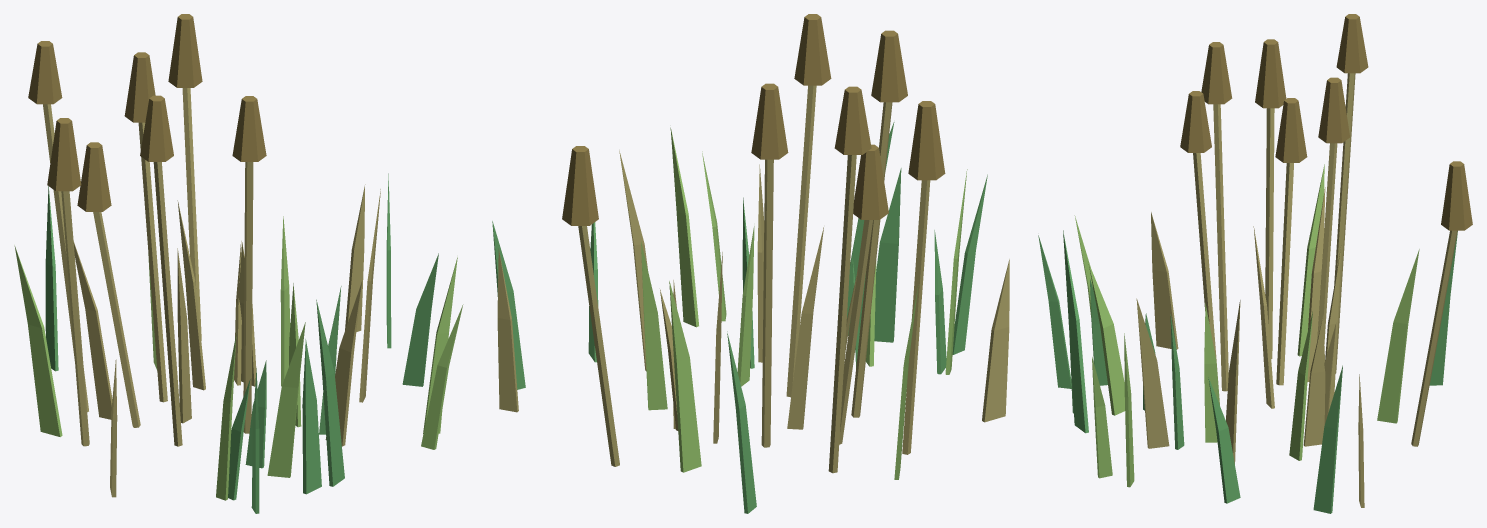
File: grass_seedhead_b.glb
3 renders of one model, left to right at view 1: azimuth 30°, elevation 25°; view 2: azimuth 150°, elevation 25°; view 3: azimuth 270°, elevation 25°, orthographic. The views are drawn at different scales.
Parts seen in each view (by area): view 1: SeedGrass_1.001, SeedGrass_2.001, SeedGrass_3.001, Seed_Stem_7, Seed_Stem_2.001, Seed_Stem_1.001, Seed_Stem_5.001, Seed_Stem_6.001, Seed_Head_4.001, Seed_Head_2.001, Seed_Stem_4.001, Seed_Head_6.001 (+5 smaller); view 2: SeedGrass_3.001, SeedGrass_2.001, SeedGrass_1.001, Seed_Stem_3.001, Seed_Stem_5.001, Seed_Stem_1.001, Seed_Stem_2.001, Seed_Stem_7, Seed_Stem_4.001, Seed_Head_4.001, Seed_Head_2.001, Seed_Head_1.001 (+5 smaller); view 3: SeedGrass_2.001, SeedGrass_3.001, SeedGrass_1.001, Seed_Stem_7, Seed_Stem_2.001, Seed_Stem_4.001, Seed_Stem_6.001, Seed_Stem_3.001, Seed_Head_4.001, Seed_Head_2.001, Seed_Head_1.001, Seed_Stem_1.001 (+5 smaller).
Boxes of the visible parts, box(x1,y1,x2,y2) form: SeedGrass_1.001: box(45, 173, 438, 513); SeedGrass_2.001: box(73, 184, 380, 497); SeedGrass_3.001: box(14, 216, 463, 500); Seed_Stem_7: box(153, 162, 182, 446); Seed_Stem_2.001: box(61, 191, 89, 446); Seed_Stem_1.001: box(138, 122, 167, 402); Seed_Stem_5.001: box(243, 162, 253, 433); Seed_Stem_6.001: box(93, 212, 140, 427); Seed_Head_4.001: box(168, 14, 202, 87); Seed_Head_2.001: box(47, 118, 81, 191); Seed_Stem_4.001: box(182, 88, 201, 340); Seed_Head_6.001: box(77, 142, 111, 211); SeedGrass_3.001: box(641, 127, 967, 479); SeedGrass_2.001: box(497, 150, 1009, 443); SeedGrass_1.001: box(492, 122, 987, 513); Seed_Stem_3.001: box(828, 155, 856, 473); Seed_Stem_5.001: box(786, 85, 816, 397); Seed_Stem_1.001: box(761, 159, 773, 447); Seed_Stem_2.001: box(902, 180, 930, 454); Seed_Stem_7: box(851, 102, 892, 417); Seed_Stem_4.001: box(578, 226, 619, 466); Seed_Head_4.001: box(562, 146, 598, 225); Seed_Head_2.001: box(908, 101, 945, 180); Seed_Head_1.001: box(751, 83, 788, 159); SeedGrass_2.001: box(1136, 187, 1364, 507); SeedGrass_3.001: box(1074, 164, 1419, 487); SeedGrass_1.001: box(1038, 230, 1457, 513); Seed_Stem_7: box(1213, 104, 1228, 391); Seed_Stem_2.001: box(1265, 108, 1274, 358); Seed_Stem_4.001: box(1411, 230, 1457, 446); Seed_Stem_6.001: box(1276, 163, 1293, 385); Seed_Stem_3.001: box(1334, 73, 1355, 373); Seed_Head_4.001: box(1441, 161, 1472, 230); Seed_Head_2.001: box(1255, 39, 1286, 108); Seed_Head_1.001: box(1318, 77, 1349, 143); Seed_Stem_1.001: box(1317, 143, 1337, 343).
Bounding box in the file's own units: 1.43 × 1.31 × 1.5.
